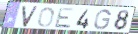4: (74, 8, 90, 30)
8: (112, 9, 129, 32)
E: (54, 7, 76, 29)
G: (93, 9, 113, 31)
O: (37, 7, 56, 28)
V: (21, 5, 39, 28)
